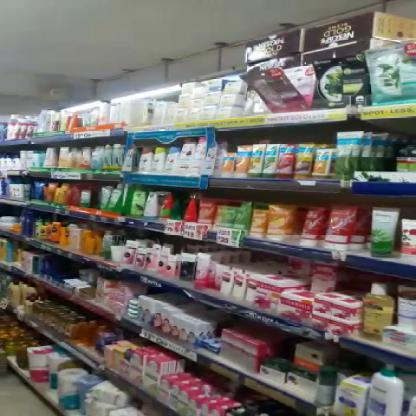Everyuth Naturals Body Lotion Nourishing Cocoa 200ml: (182, 137, 195, 176), (138, 146, 154, 174)
Everyuth Naturals Body Lotion Rejuvenating Flora 200ml: (194, 136, 208, 176)
Everyuth Naturals Body Lotion Soothing Citrus 200ml: (152, 145, 166, 176)
Everyuth Naturals Body Lotion Sun Care Berries SPF 15 200ml: (164, 146, 180, 176)
